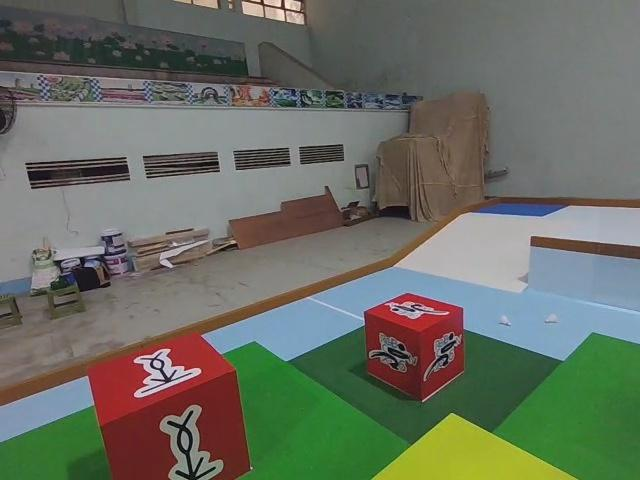R1: (363, 290, 466, 402)
R2 Real: (85, 326, 254, 480)
